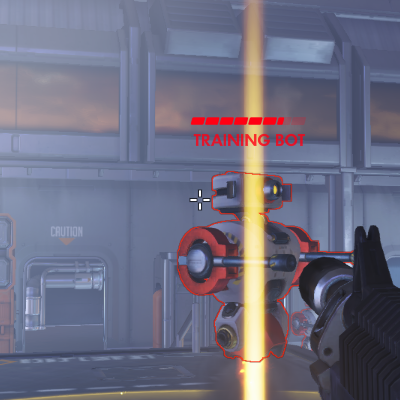hpbar: (190, 117, 306, 125)
